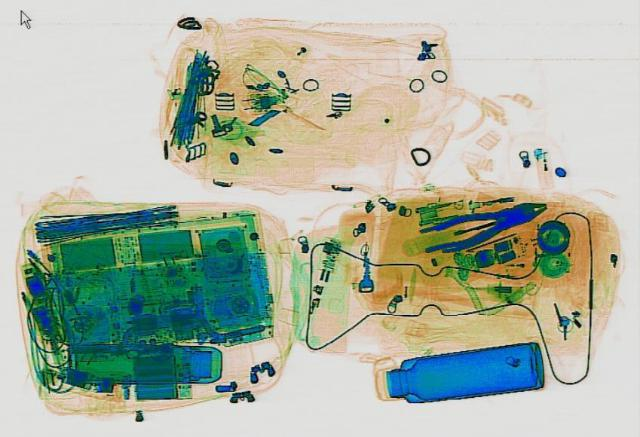Pliers: (424, 192, 556, 253)
